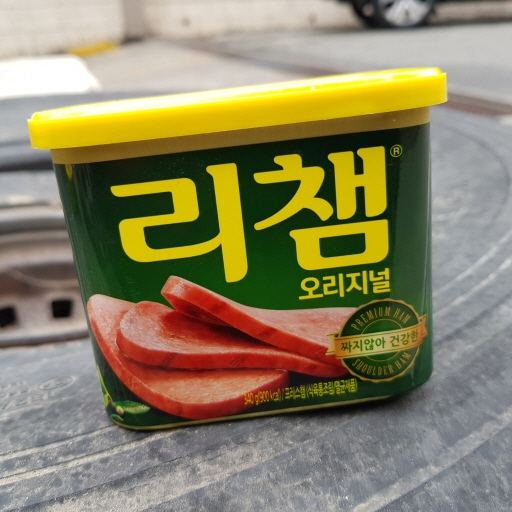Metal_2: (32, 67, 452, 433)
